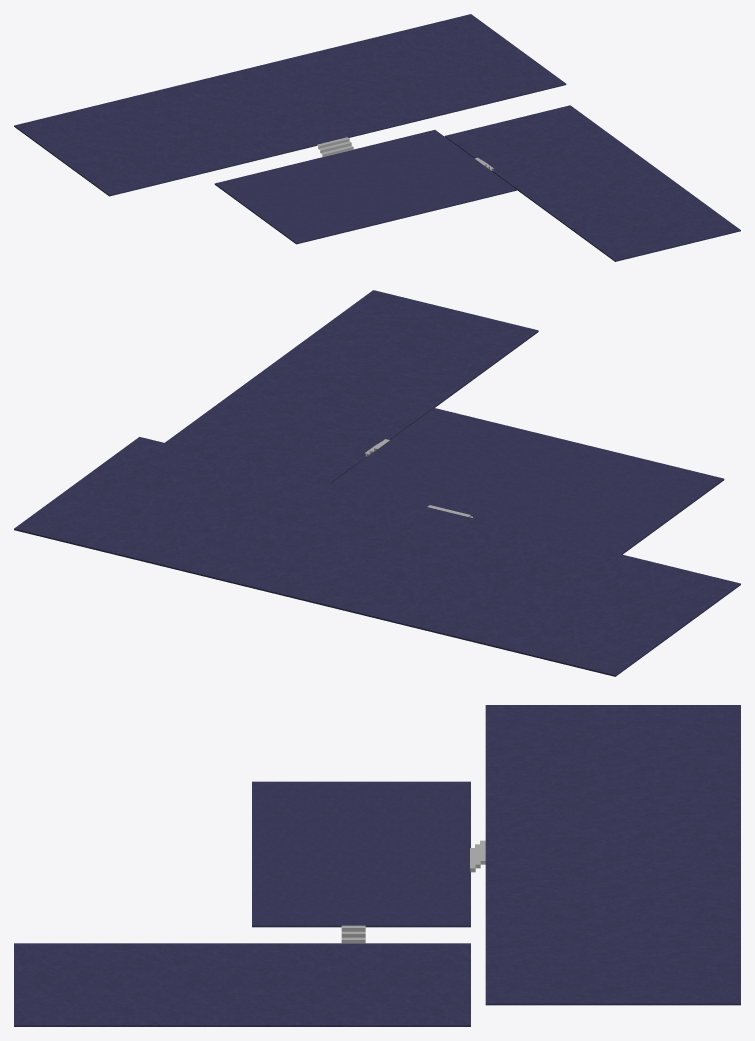
The model's file is floors.glb.
3 renders of one model, top to bottom at view 1: azimuth 30°, elevation 25°; view 2: azimuth 150°, elevation 25°; view 3: azimuth 270°, elevation 25°, orthographic. The views are drawn at different scales.
Visible parts, largest first — view 1: floorOffice, floorCoworking, floorBonfire, stairs; view 2: floorOffice, floorCoworking, floorBonfire; view 3: floorOffice, floorCoworking, floorBonfire, stairs.
Boxes of the visible parts, <box> form: floorOffice: <box>14,14,566,196</box>; floorCoworking: <box>444,105,740,261</box>; floorBonfire: <box>214,130,516,244</box>; stairs: <box>317,137,493,170</box>; floorOffice: <box>14,437,740,676</box>; floorCoworking: <box>165,290,538,483</box>; floorBonfire: <box>331,408,724,554</box>; floorOffice: <box>485,705,740,1005</box>; floorCoworking: <box>14,943,470,1026</box>; floorBonfire: <box>252,781,470,927</box>; stairs: <box>341,840,485,943</box>.
Bounding box in the file's own units: 41.5 × 1.58 × 42.69.
Materials: 2 (1 with a texture image).
